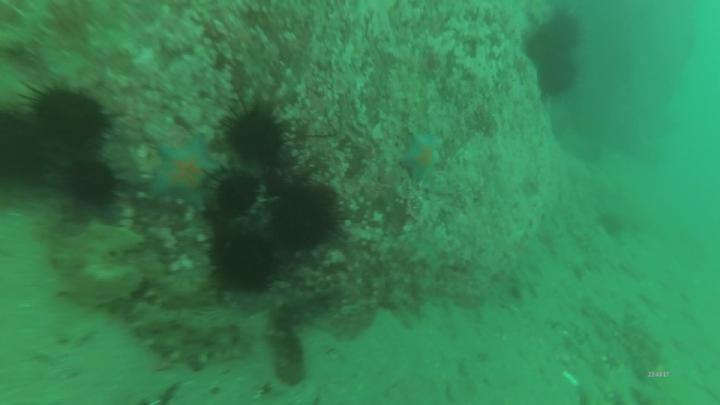echinus: (14, 76, 122, 150), (261, 180, 339, 259), (217, 91, 294, 169), (213, 226, 286, 296), (1, 106, 49, 192), (203, 165, 269, 223), (59, 154, 123, 212), (533, 53, 583, 100), (522, 24, 566, 69), (549, 8, 582, 49), (595, 208, 627, 240)
holothurian: (129, 297, 254, 371), (52, 225, 151, 312), (267, 317, 306, 389)
starfish: (144, 129, 222, 219), (399, 124, 443, 186)
